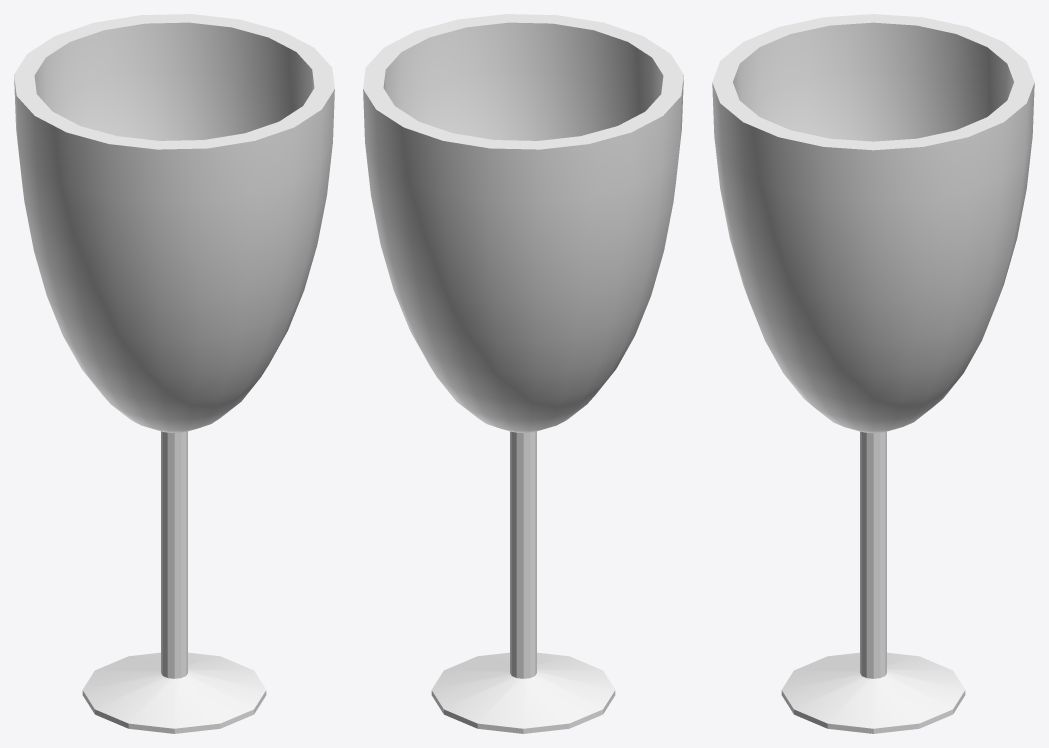
File: glass.fbx
The picture shows the model from 3 angles, left to right: view 1: azimuth 30°, elevation 25°; view 2: azimuth 150°, elevation 25°; view 3: azimuth 270°, elevation 25°; orthographic projection.
Visible parts, largest first — view 1: glass; view 2: glass; view 3: glass.
Part boxes in pixels (<box>): glass: <box>14,14,334,733</box>; glass: <box>363,14,683,733</box>; glass: <box>712,14,1034,733</box>.
Size of the model in its own units: 0.4299 by 0.9018 by 0.4299.
